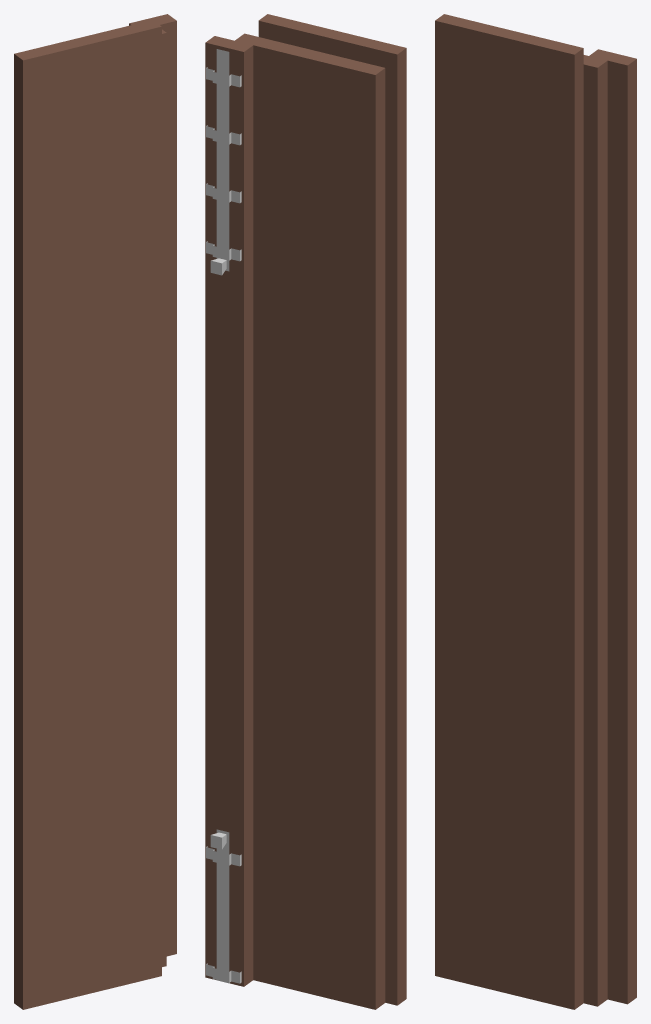
The model's file is cave_door.fbx.
3 views of the same model, side by side, from view 1: azimuth 30°, elevation 25°; view 2: azimuth 150°, elevation 25°; view 3: azimuth 330°, elevation 25° (orthographic).
Visible parts, largest first — view 1: pCube2800, pCube196; view 2: pCube2800, pCube196, pPlane17, pPlane18; view 3: pCube2800, pCube196.
Boxes of the visible parts, x1,y1,x2,y2 form: pCube2800: (14,20,166,1009); pCube196: (129,14,176,956); pCube2800: (235,14,406,1009); pCube196: (205,36,253,986); pPlane17: (210,49,229,275); pPlane18: (210,829,229,983); pCube2800: (435,14,607,1009); pCube196: (589,49,636,1004).
Size of the model in its own units: 40.24 by 212 by 14.71.
